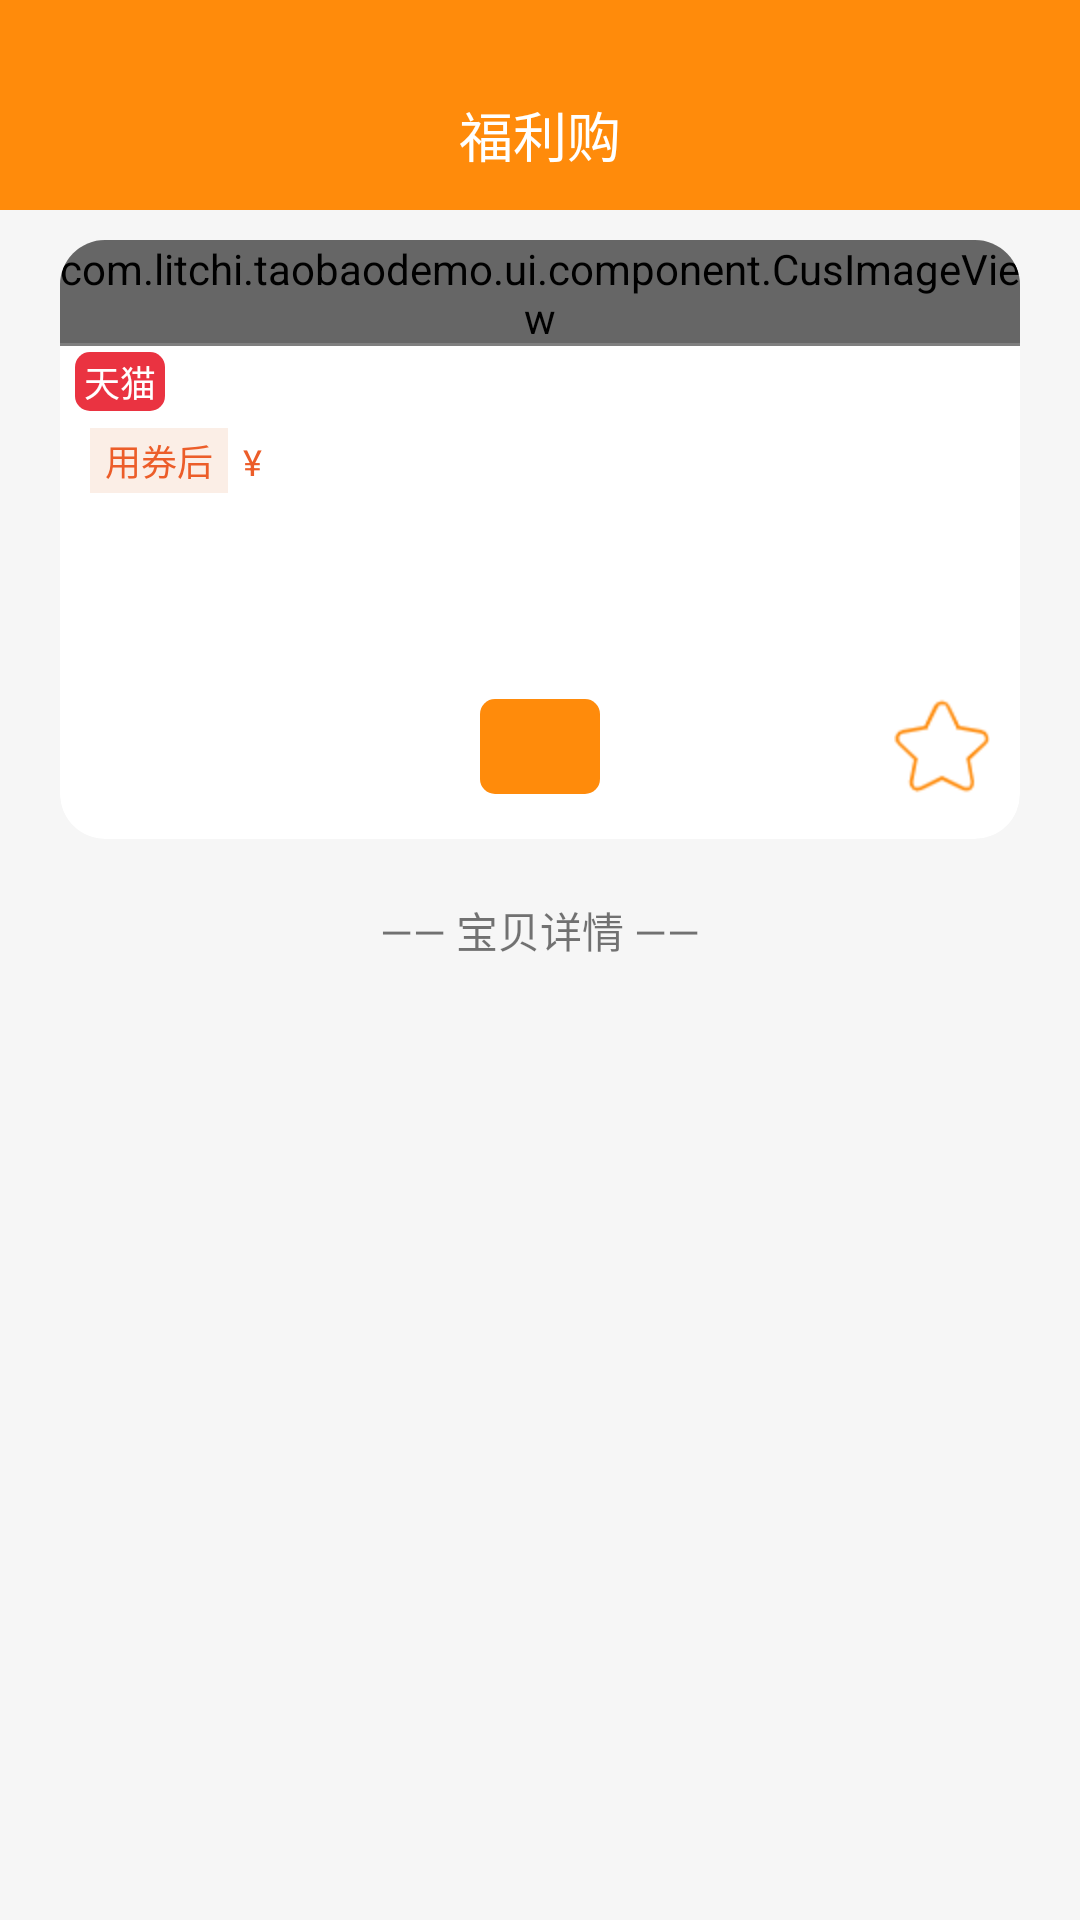

Named icons in this screenshot (1080px x 1920px) and their centers, (x=x, y=y):
favorite: (x=942, y=746)
